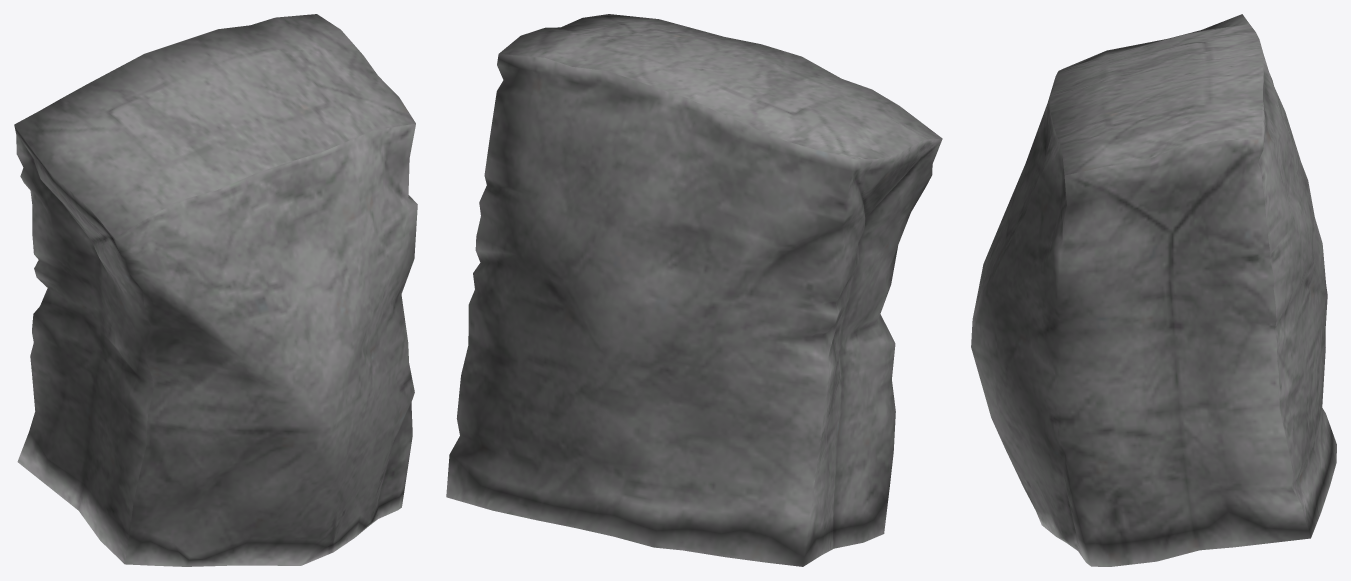
Rendered from SurvivorMale_Head_Mask_Paperbag_LOD0.glb.
3 renders of one model, left to right at view 1: azimuth 30°, elevation 25°; view 2: azimuth 150°, elevation 25°; view 3: azimuth 270°, elevation 25°, orthographic. The views are drawn at different scales.
Parts seen in each view (by area): view 1: Hoodie; view 2: Hoodie; view 3: Hoodie.
Part boxes in pixels (x1,y1,x2,y2): Hoodie: [14, 14, 417, 566]; Hoodie: [446, 14, 942, 566]; Hoodie: [971, 14, 1336, 566].
Bounding box in the file's own units: 0.2609 × 0.3302 × 0.2458.
1 material, 1 textured.
